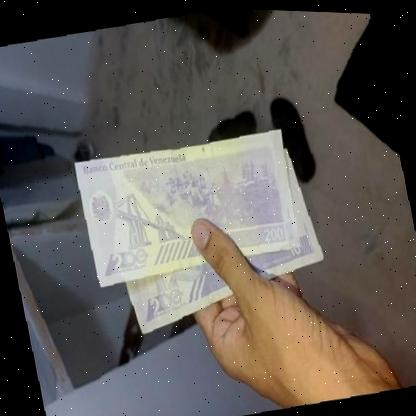two_hundred-back-vef: (71, 119, 303, 294)
